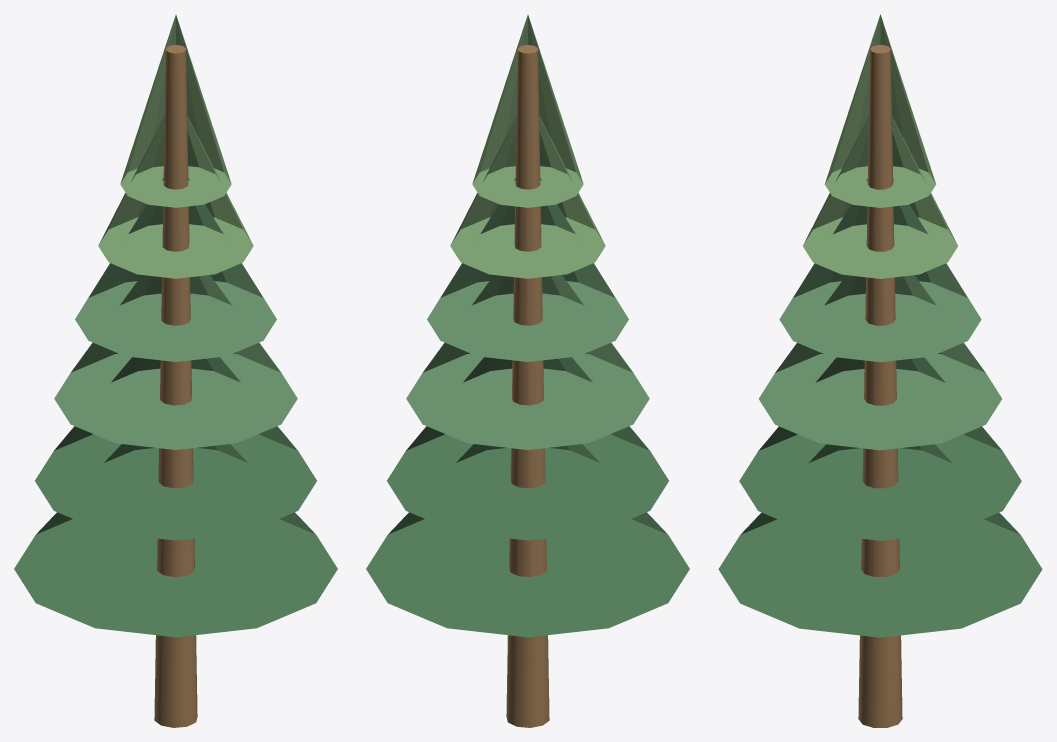
The model's file is tree_pine.gltf.
3 views of the same model, side by side, from view 1: azimuth 30°, elevation 25°; view 2: azimuth 150°, elevation 25°; view 3: azimuth 270°, elevation 25° (orthographic).
Visible parts, largest first — view 1: PineTree; view 2: PineTree; view 3: PineTree.
Boxes of the visible parts, box(x1,y1,x2,y2) form: PineTree: box(14, 15, 337, 727); PineTree: box(366, 15, 689, 727); PineTree: box(718, 14, 1042, 727).
Size of the model in its own units: 5 by 12 by 5.
